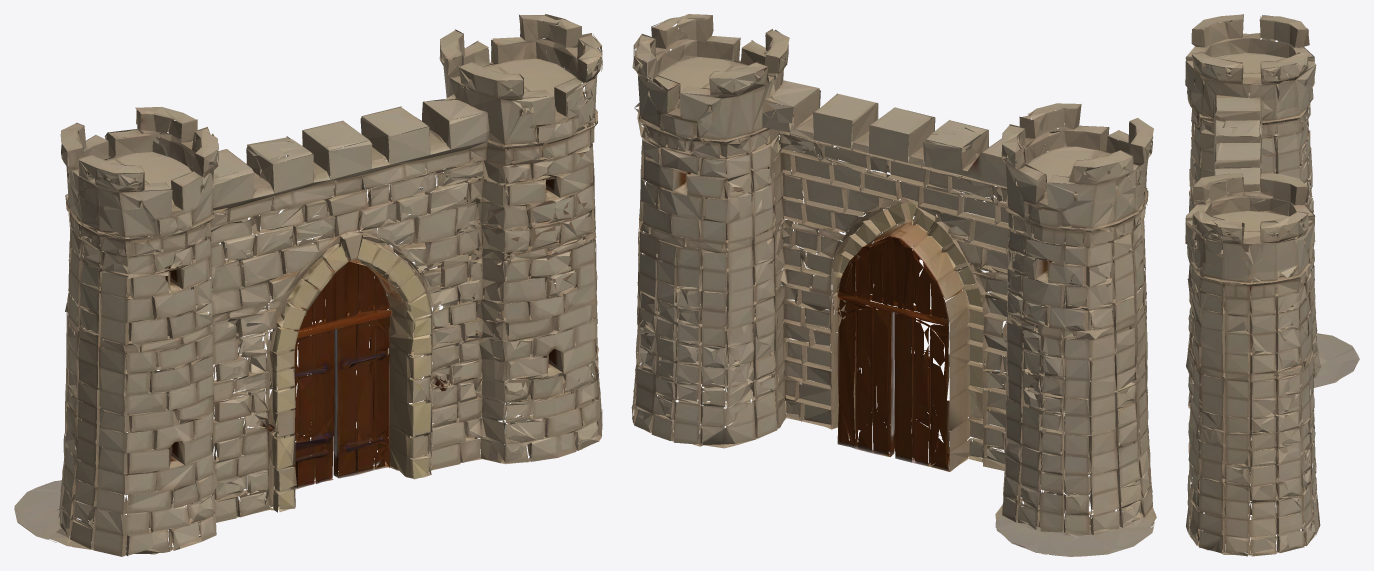
Rendered from gatehouse.glb.
The picture shows the model from 3 angles, left to right: view 1: azimuth 30°, elevation 25°; view 2: azimuth 150°, elevation 25°; view 3: azimuth 270°, elevation 25°; orthographic projection. The views are drawn at different scales.
Parts seen in each view (by area): view 1: material; view 2: material; view 3: material.
Boxes of the visible parts, x1,y1,x2,y2 form: material: (14,14,602,556); material: (631,14,1156,556); material: (1185,14,1359,556).
Bounding box in the file's own units: 1.35 × 0.9175 × 0.4408.
Materials: 1 (1 with a texture image).
